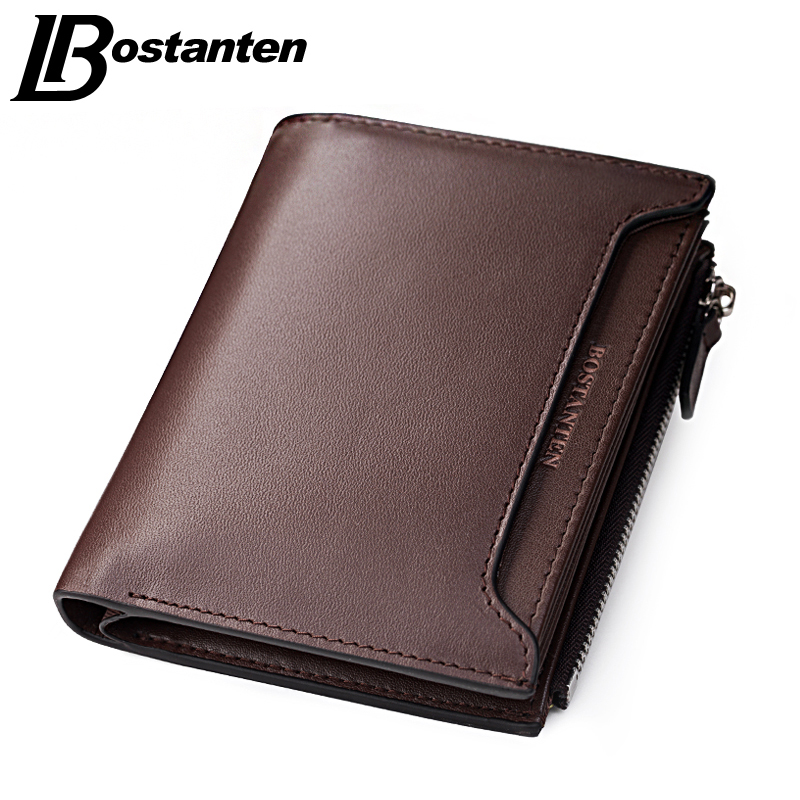monedero: (48, 108, 739, 741)
